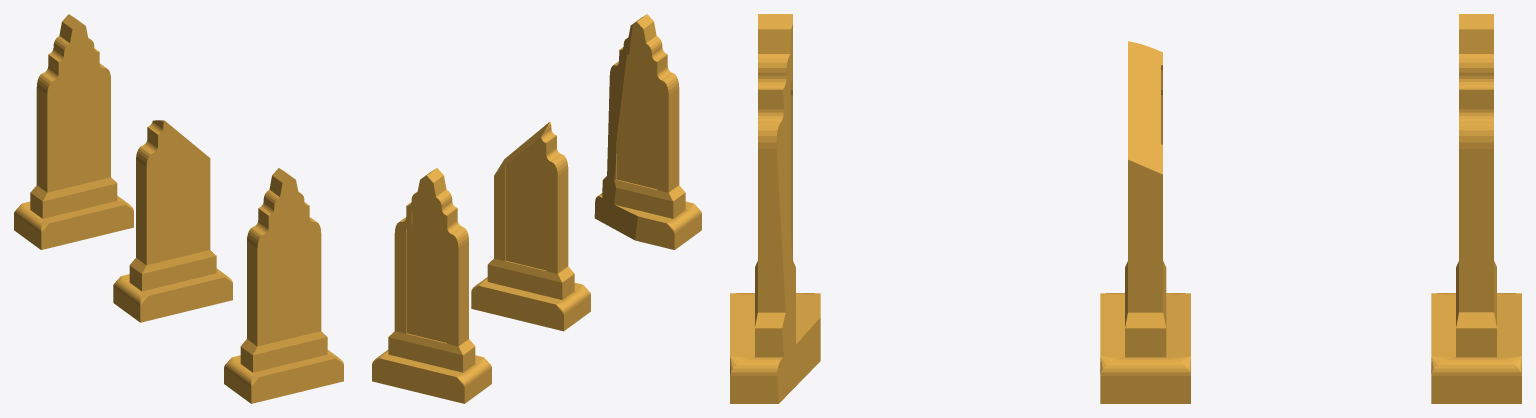
The model's file is Total Assets2.fbx_Headstone08.fbx.
The picture shows the model from 3 angles, left to right: view 1: azimuth 30°, elevation 25°; view 2: azimuth 150°, elevation 25°; view 3: azimuth 270°, elevation 25°; orthographic projection. The views are drawn at different scales.
Parts seen in each view (by area): view 1: headstones_8, headstones_8_001, headstones_8_002; view 2: headstones_8, headstones_8_001, headstones_8_002; view 3: headstones_8, headstones_8_001, headstones_8_002.
Boxes of the visible parts, left/top/right/bottom form: headstones_8: left=14, top=14, right=133, bottom=249; headstones_8_001: left=224, top=168, right=343, bottom=403; headstones_8_002: left=113, top=120, right=232, bottom=322; headstones_8: left=372, top=168, right=491, bottom=403; headstones_8_001: left=594, top=14, right=701, bottom=249; headstones_8_002: left=471, top=122, right=590, bottom=331; headstones_8: left=1431, top=14, right=1521, bottom=403; headstones_8_001: left=730, top=14, right=820, bottom=403; headstones_8_002: left=1100, top=41, right=1190, bottom=403.
Bounding box in the file's own units: 102 × 221 × 451.
